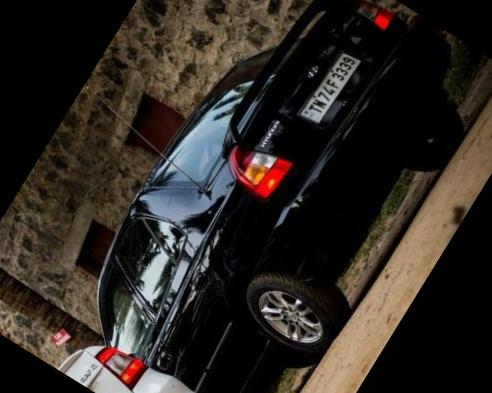plate: (288, 34, 376, 141)
